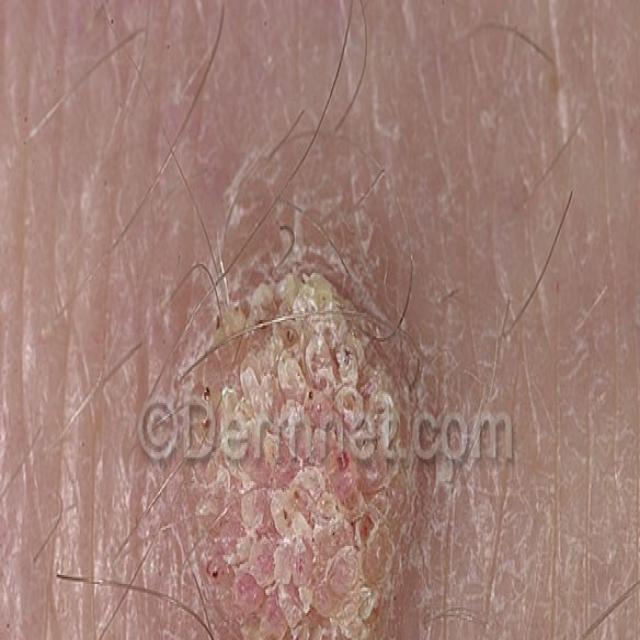Warts: (151, 215, 448, 640)
